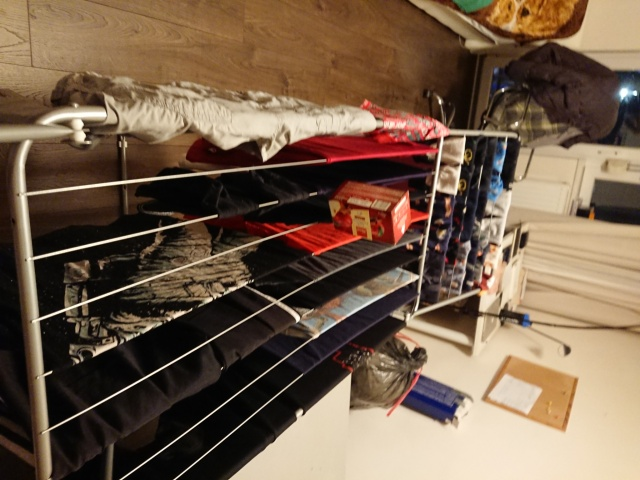Franck Apple Cinnamon Tea 60g: (326, 177, 416, 248)
